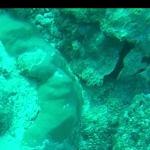dead: (1, 7, 148, 149)
